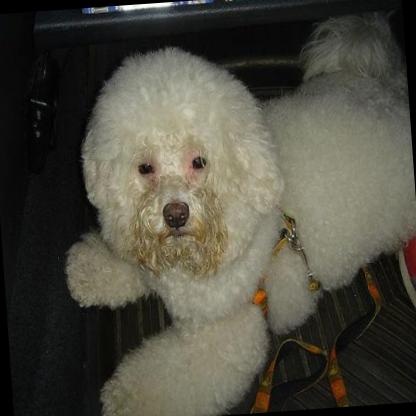toy_poodle: (49, 8, 416, 416)
